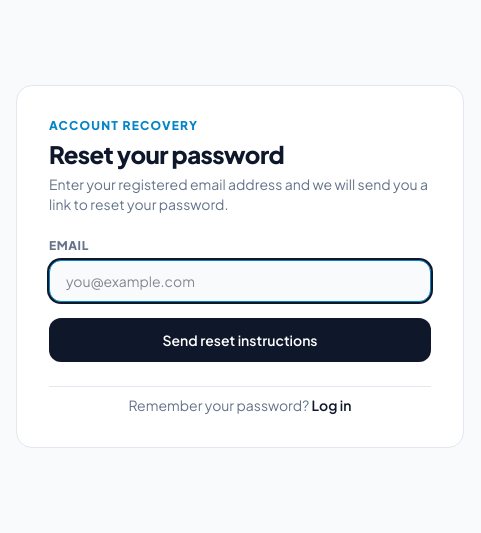
Password Reset Flows › same message on error and success paths for unknown emails
Later steps or results of the test are not shown.
Type "valid@example.com" into the field labelled "Email" at (240, 280), box [49,260,431,302]
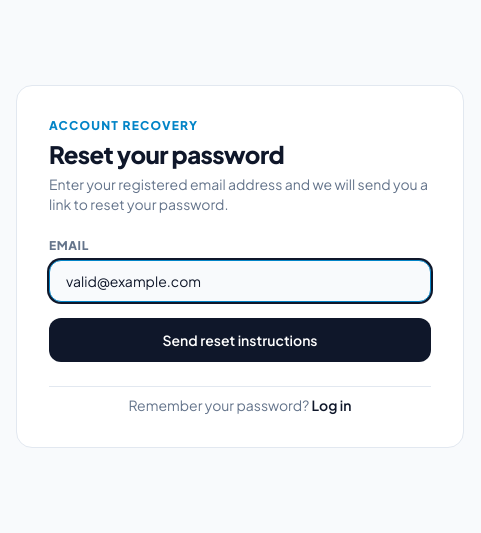
Click the button "Send reset instructions" at (240, 340), box [49,318,431,362]
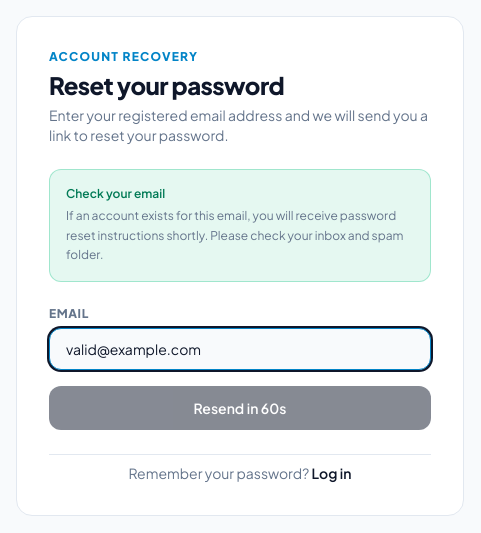
Expected: the text "Check your email" is shown, [66,186,165,201]
